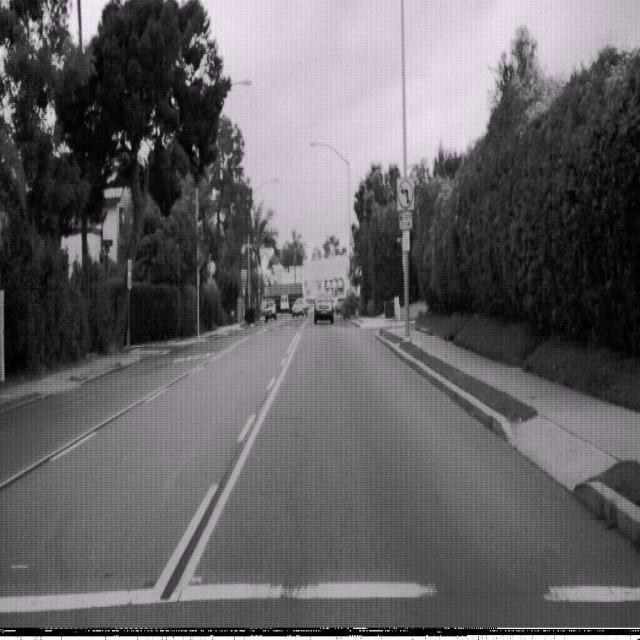noLeftTurn: (396, 177, 414, 210)
